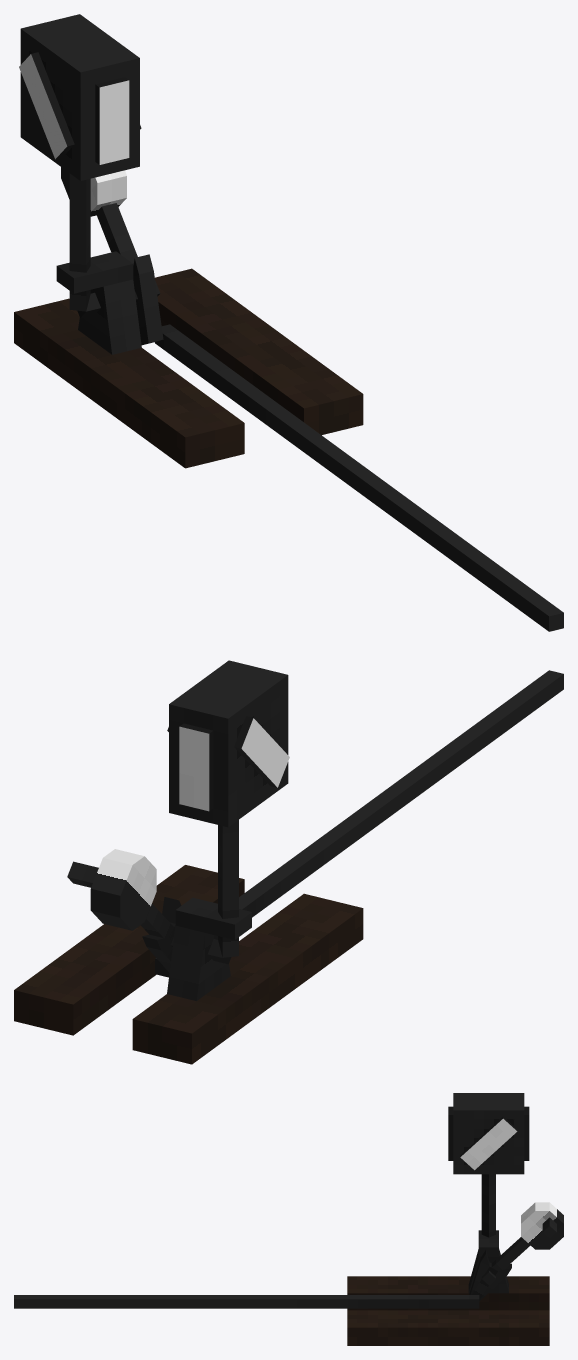
The model's file is right_side_right_turn_on.obj.
3 renders of one model, top to bottom at view 1: azimuth 30°, elevation 25°; view 2: azimuth 150°, elevation 25°; view 3: azimuth 270°, elevation 25°, orthographic. The views are drawn at different scales.
Parts seen in each view (by area): view 1: base; view 2: base; view 3: base.
Boxes of the visible parts, x1=… form: base: x1=14, y1=14, x2=563, y2=631; base: x1=14, y1=660, x2=563, y2=1064; base: x1=14, y1=1093, x2=563, y2=1345.
Size of the model in its own units: 0.8438 by 1.34 by 3.4.
1 material, 1 textured.
